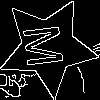M: (23, 22, 73, 69)
